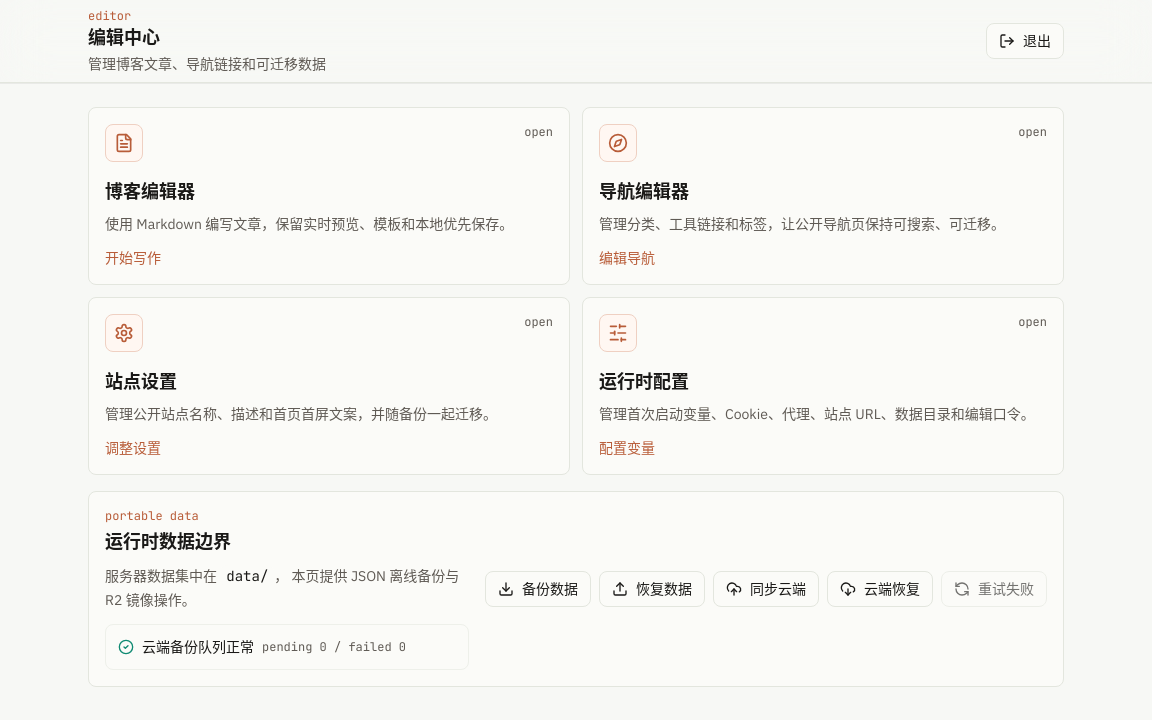
Test: EditorHomePage › warns when remote restore succeeds but the follow-up snapshot sync fails
Click the button "云端恢复".
click(880, 589)  # box [827, 571, 933, 607]
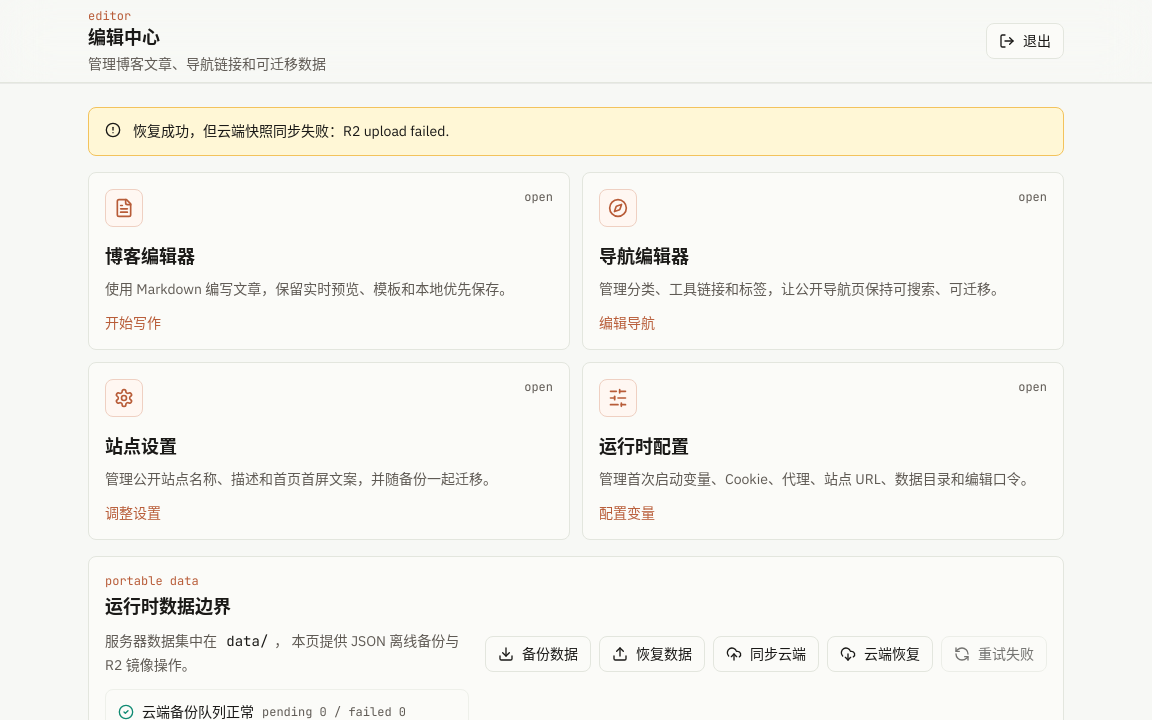
Result: the text "恢复成功，但云端快照同步失败：R2 upload failed." is shown at [133, 120, 449, 143]
